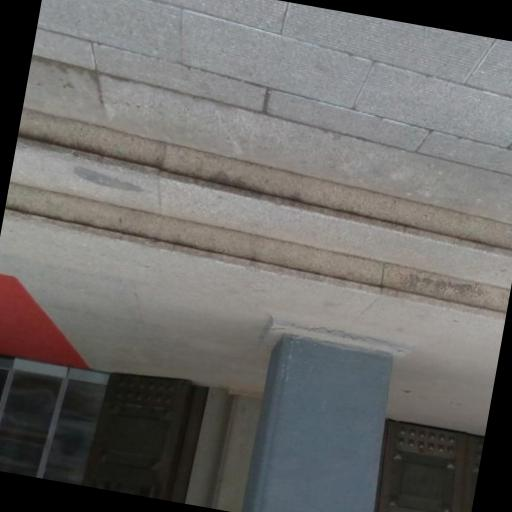stairs: (4, 109, 511, 312)
